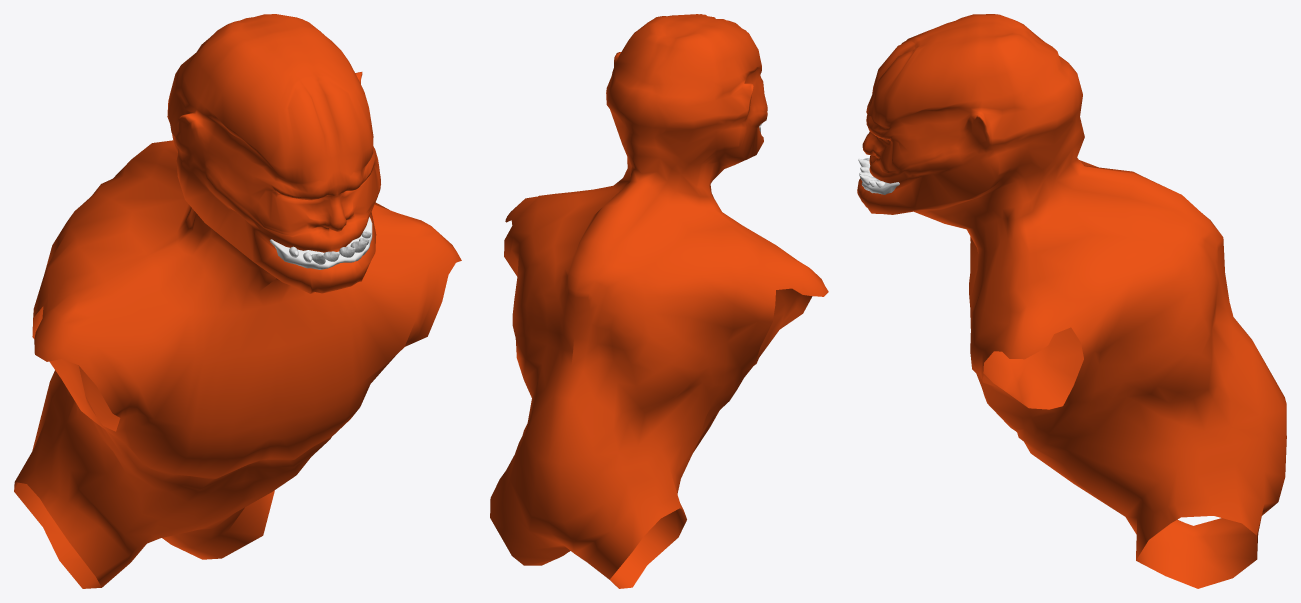
Rendered from zombıe.fbx.
3 renders of one model, left to right at view 1: azimuth 30°, elevation 25°; view 2: azimuth 150°, elevation 25°; view 3: azimuth 270°, elevation 25°, orthographic. The views are drawn at different scales.
Parts seen in each view (by area): view 1: Plane, gums; view 2: Plane; view 3: Plane.
Boxes of the visible parts, left/top/right/bottom form: Plane: left=14, top=14, right=461, bottom=588; gums: left=269, top=217, right=372, bottom=269; Plane: left=490, top=14, right=828, bottom=588; Plane: left=857, top=14, right=1286, bottom=588.
Size of the model in its own units: 593 by 859 by 623.
